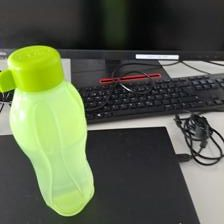bottle: (0, 44, 96, 216)
